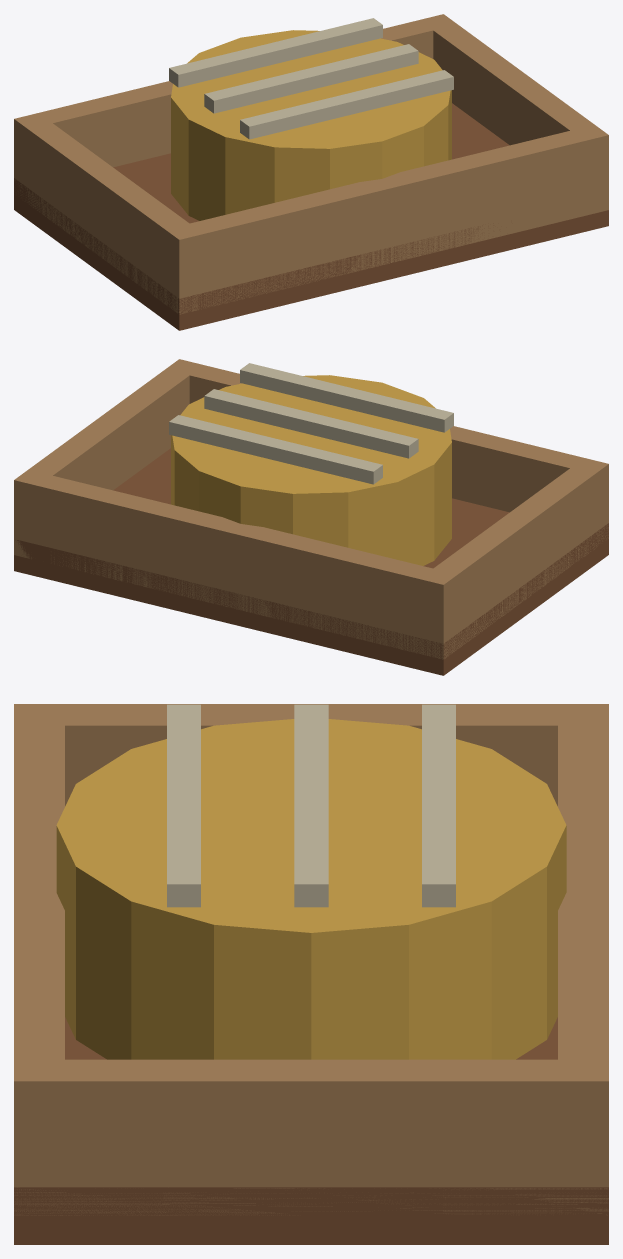
File: set_fruit_pie.glb
3 renders of one model, top to bottom at view 1: azimuth 30°, elevation 25°; view 2: azimuth 150°, elevation 25°; view 3: azimuth 270°, elevation 25°, orthographic. The views are drawn at different scales.
Parts seen in each view (by area): view 1: set_fruit_pie; view 2: set_fruit_pie; view 3: set_fruit_pie.
Boxes of the visible parts, box(x1,y1,x2,y2) form: set_fruit_pie: box(14, 14, 608, 330); set_fruit_pie: box(14, 359, 608, 675); set_fruit_pie: box(14, 704, 608, 1244).
Size of the model in its own units: 0.42 by 0.136 by 0.28.
